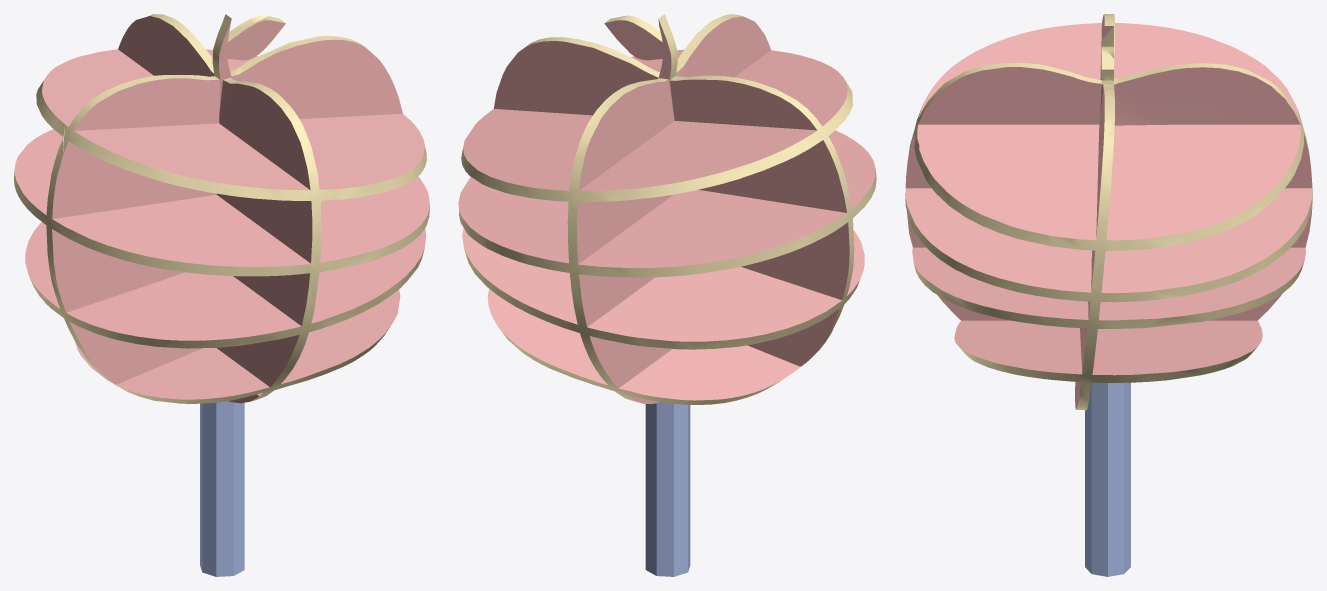
File: AppleTreeModel.fbx
The picture shows the model from 3 angles, left to right: view 1: azimuth 30°, elevation 25°; view 2: azimuth 150°, elevation 25°; view 3: azimuth 270°, elevation 25°; orthographic projection.
Parts seen in each view (by area): view 1: AppleTree; view 2: AppleTree; view 3: AppleTree.
Part boxes in pixels (left/top/right/bottom): AppleTree: left=14, top=14, right=429, bottom=576; AppleTree: left=458, top=14, right=876, bottom=576; AppleTree: left=905, top=14, right=1312, bottom=576.
Bounding box in the file's own units: 1.99 × 2.93 × 1.99.
